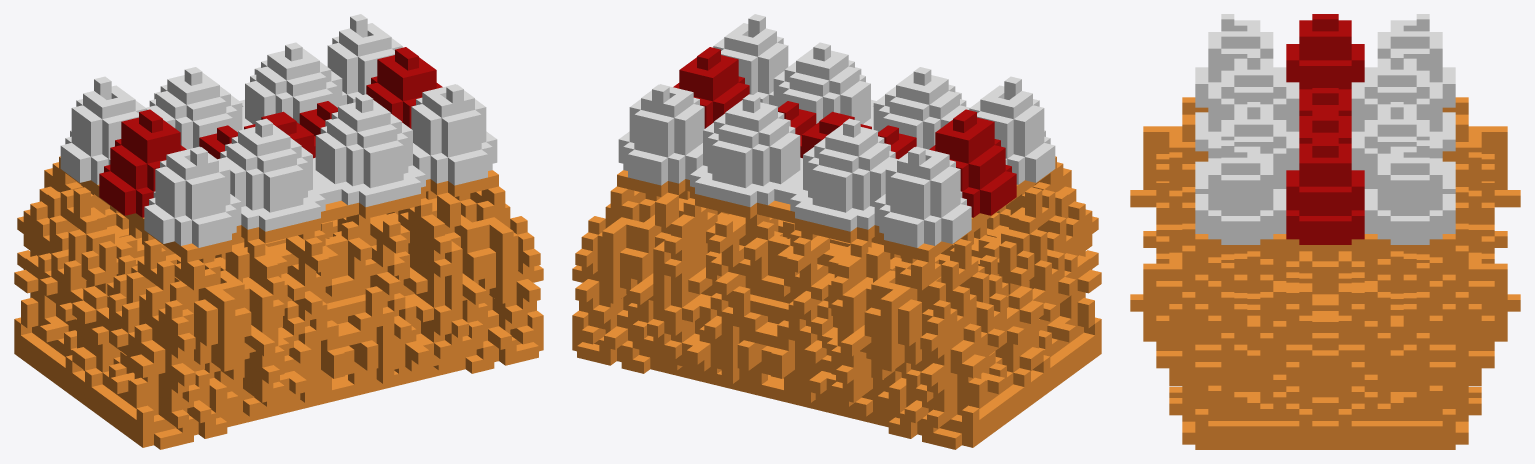
The model's file is Millefeuille.obj.
The picture shows the model from 3 angles, left to right: view 1: azimuth 30°, elevation 25°; view 2: azimuth 150°, elevation 25°; view 3: azimuth 270°, elevation 25°; orthographic projection.
Parts seen in each view (by area): view 1: Millefeuille; view 2: Millefeuille; view 3: Millefeuille.
Part boxes in pixels (left/top/right/bottom): Millefeuille: left=14, top=14, right=543, bottom=449; Millefeuille: left=572, top=14, right=1101, bottom=449; Millefeuille: left=1130, top=14, right=1520, bottom=449.
Size of the model in its own units: 36 by 23 by 30.
1 material, 1 textured.
